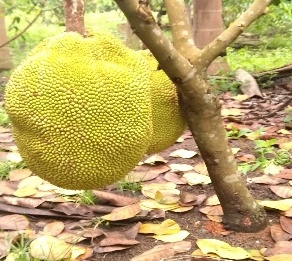Mit: (11, 35, 185, 191)
